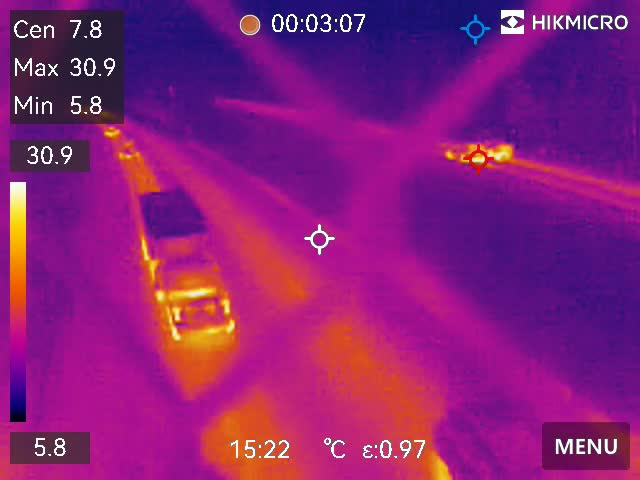heavyTruck: (132, 188, 241, 333)
